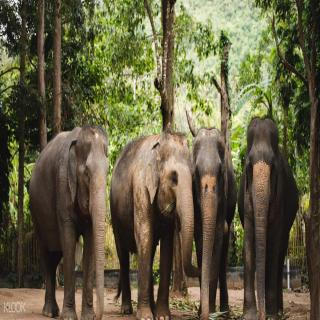Elephant: (109, 129, 196, 320), (27, 124, 110, 320), (236, 114, 300, 320), (188, 123, 238, 320)
